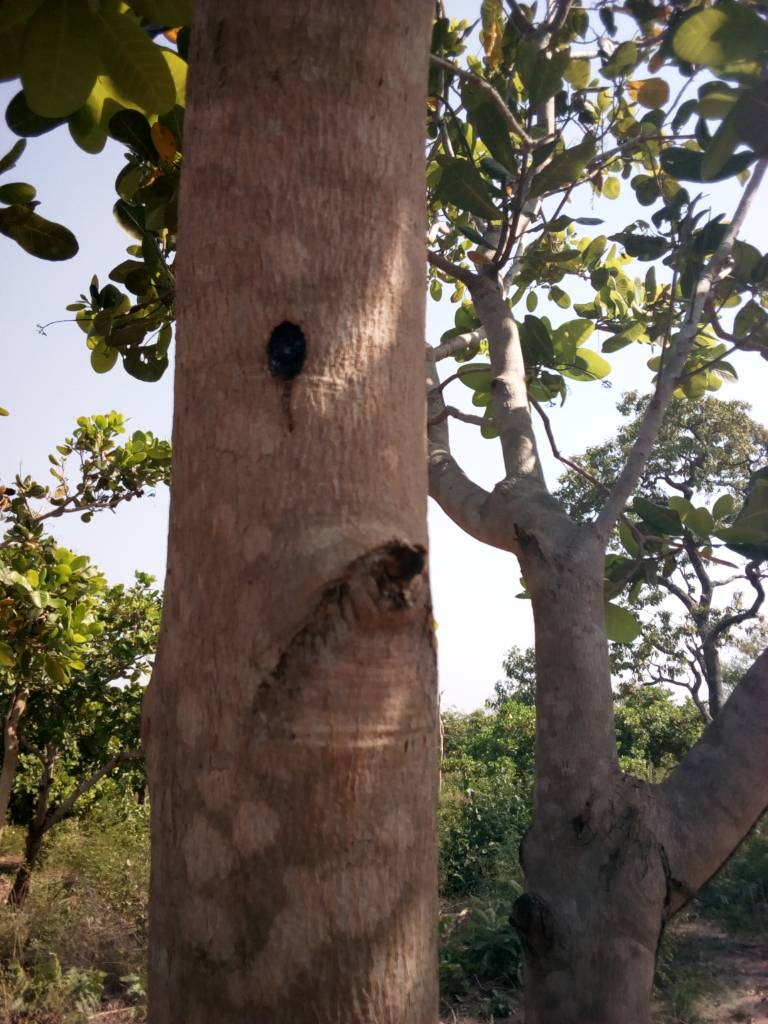Apate terebrans: (241, 308, 358, 402)
